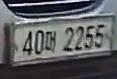0: (34, 28, 45, 56)
2: (62, 26, 74, 53), (75, 25, 85, 50)
4: (22, 29, 34, 57)
5: (95, 23, 105, 48), (85, 25, 95, 48)
머: (44, 28, 58, 54)
